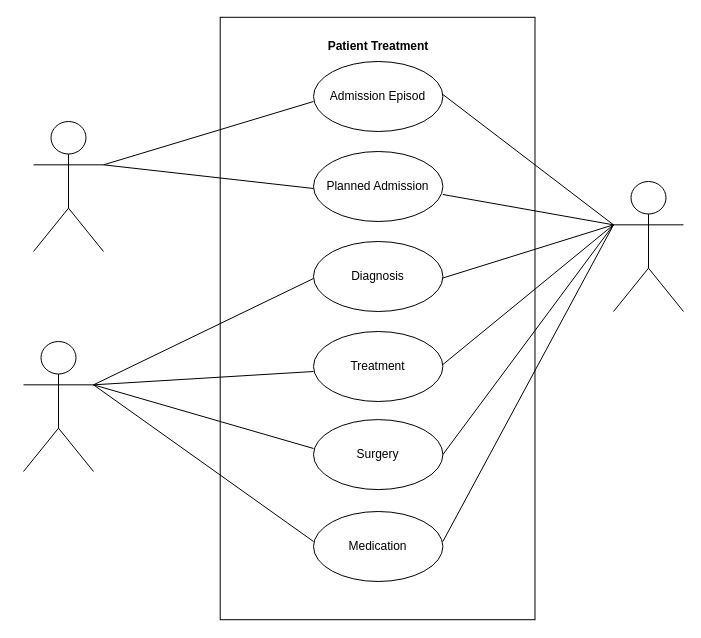
Some shapes in this 701 by 638 pixel diagram are drawn without their labels. Here are the shapes that lost their labels. From the top down, the centre of each, then its label:
point (68, 186): Community Doctor
point (648, 246): Patient
point (58, 406): Hospital Doctor
